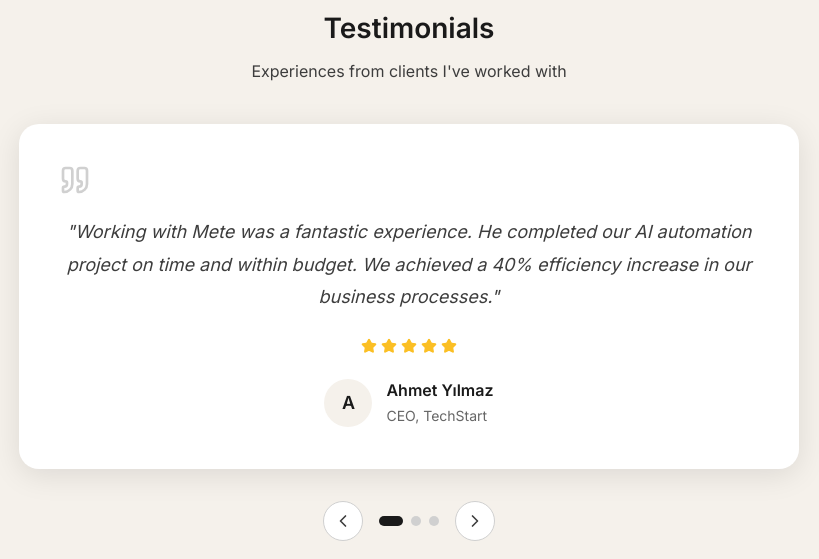
Scenario: Testimonials › navigation › wraps around when going backward from first
Click the button named "Previous testimonial" at coordinates (343, 521), box 323,501 -> 363,541
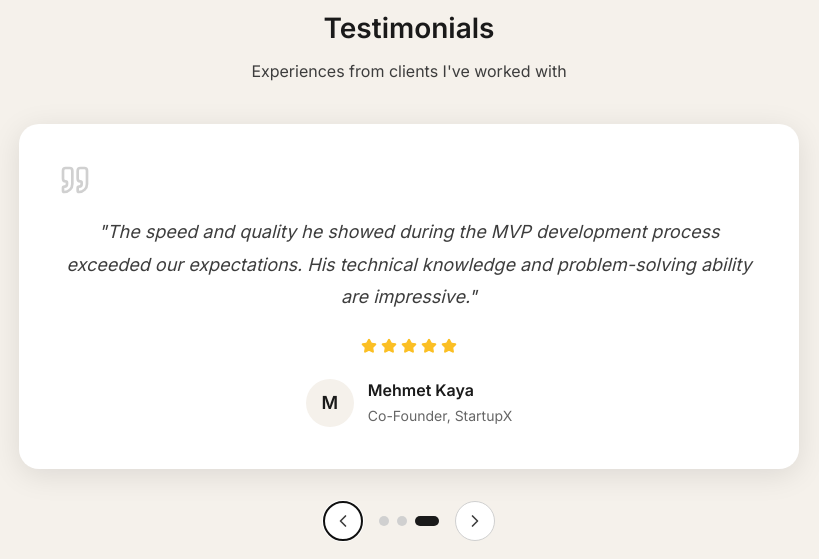
Expected: the text "Mehmet Kaya" is shown, 368,380 -> 474,400
